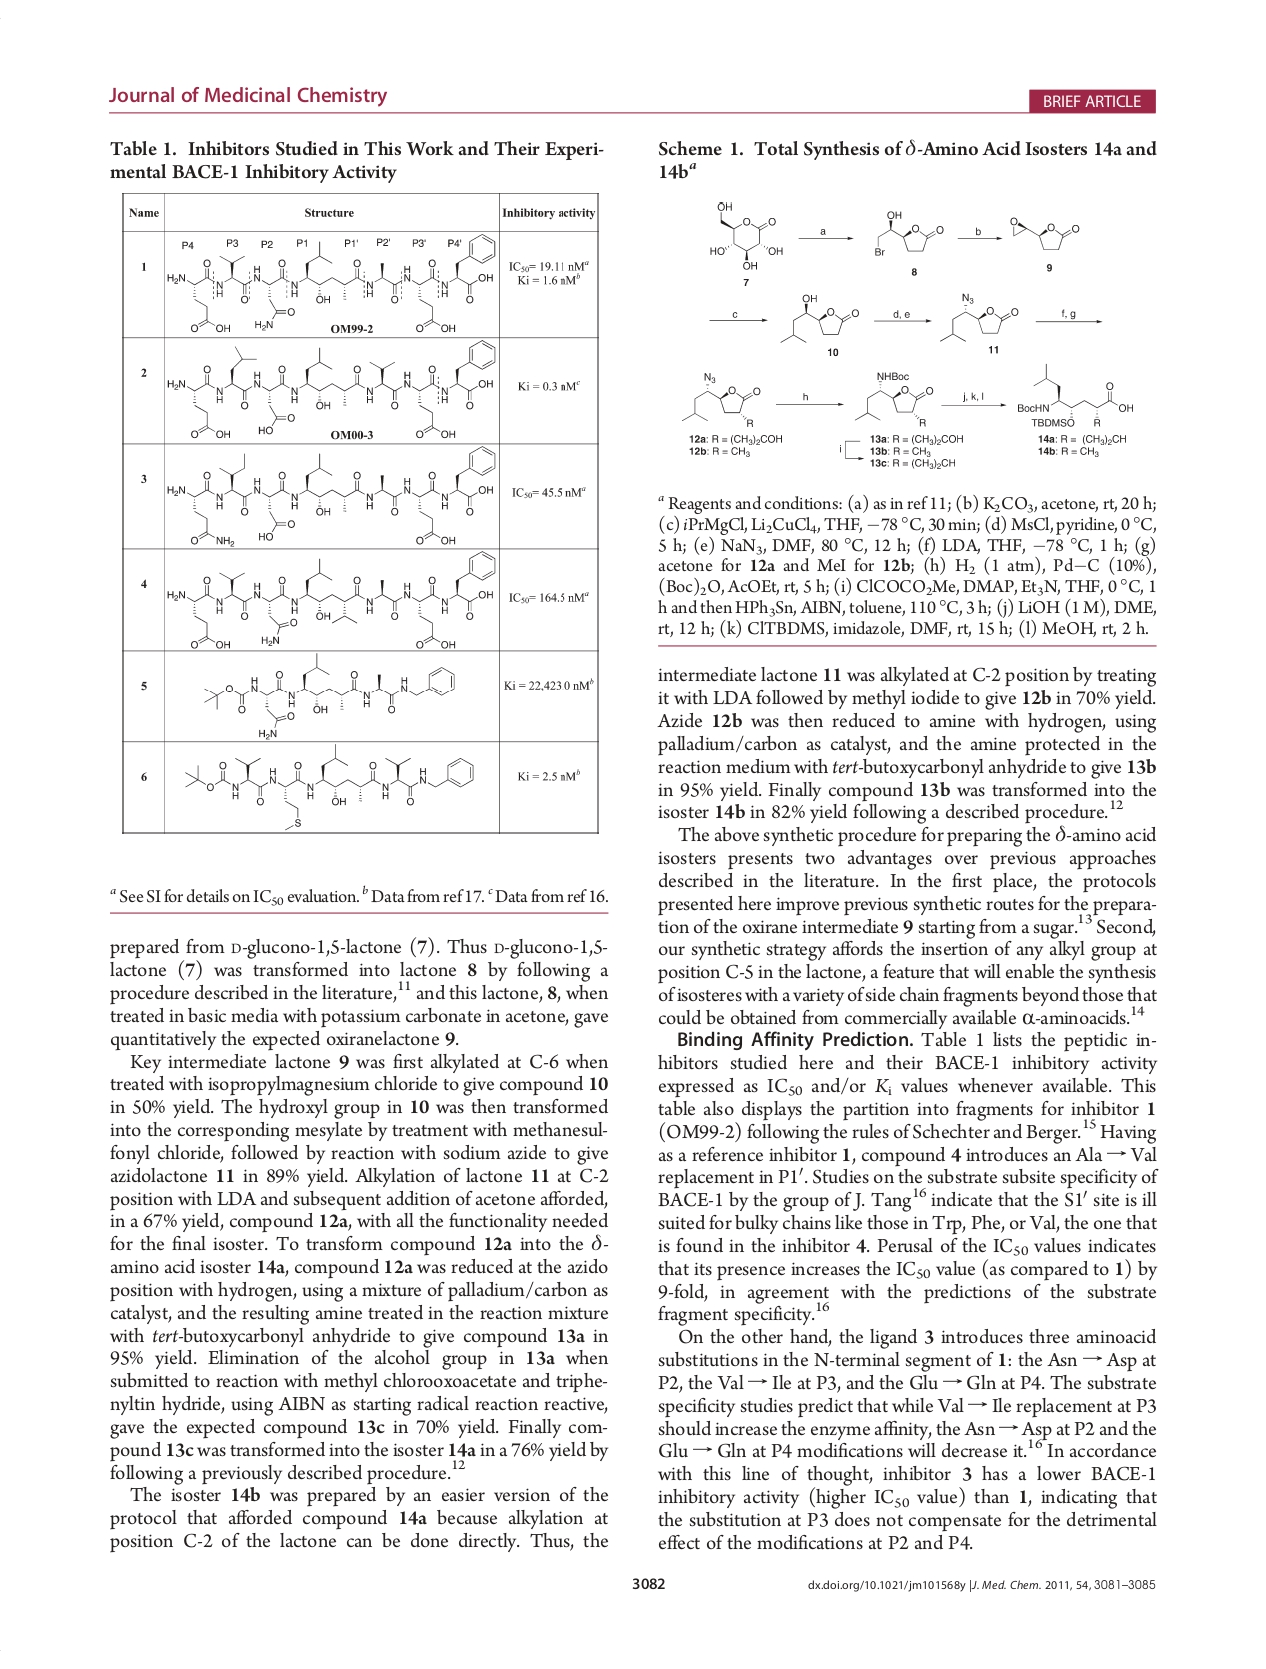exist_molecular: (164, 338, 497, 442), (165, 233, 497, 334), (165, 446, 497, 547), (165, 551, 497, 652), (185, 743, 477, 830), (201, 652, 457, 739), (1015, 362, 1137, 430), (702, 198, 785, 274), (678, 370, 765, 430), (852, 368, 936, 430), (938, 289, 1020, 344), (778, 293, 859, 346), (867, 206, 946, 258), (1005, 211, 1081, 254)
